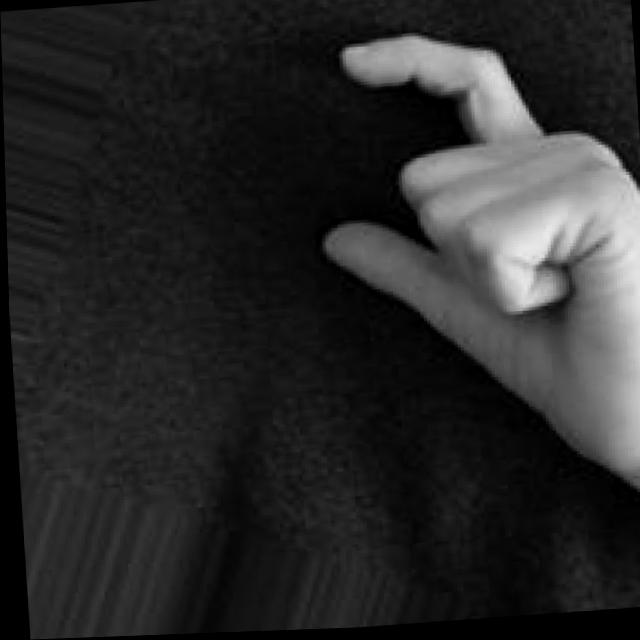C: (308, 6, 640, 555)
